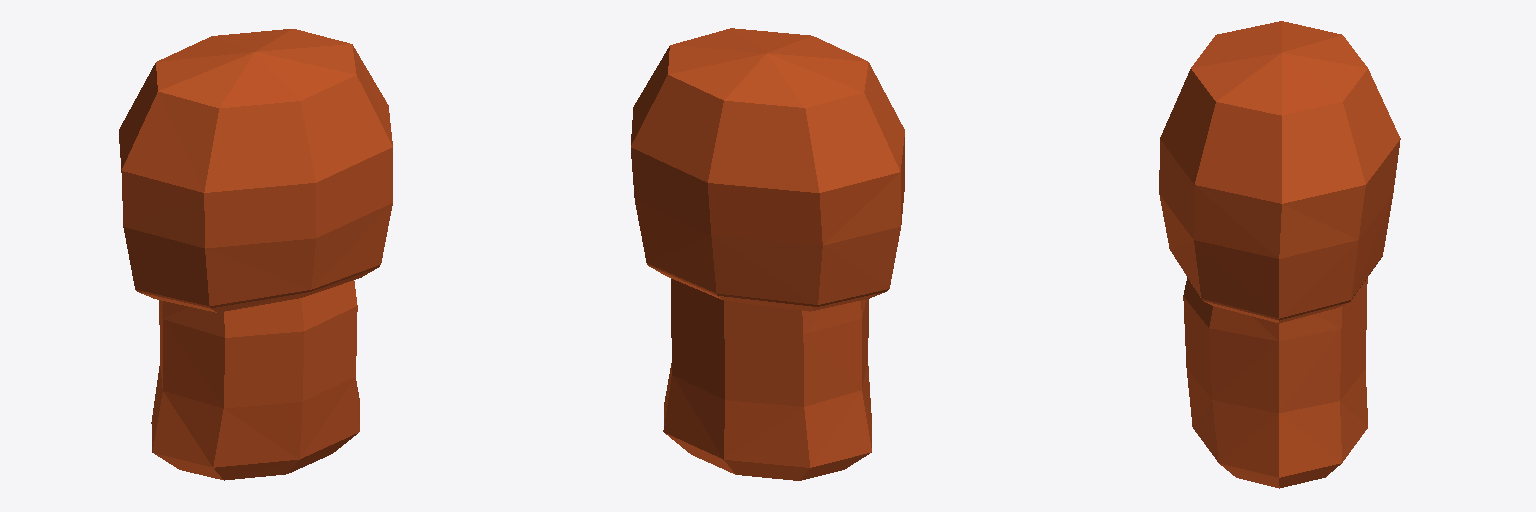
Rendered from abdomem-new2.obj.
3 views of the same model, side by side, from view 1: azimuth 30°, elevation 25°; view 2: azimuth 150°, elevation 25°; view 3: azimuth 270°, elevation 25° (orthographic).
Visible parts, largest first — view 1: GEO-Body.009_Body.009; view 2: GEO-Body.009_Body.009; view 3: GEO-Body.009_Body.009.
Boxes of the visible parts, box(x1,y1,x2,y2) form: GEO-Body.009_Body.009: box(119, 29, 392, 480); GEO-Body.009_Body.009: box(631, 28, 904, 480); GEO-Body.009_Body.009: box(1159, 21, 1400, 488).
Bounding box in the file's own units: 0.2328 × 0.3387 × 0.1821.